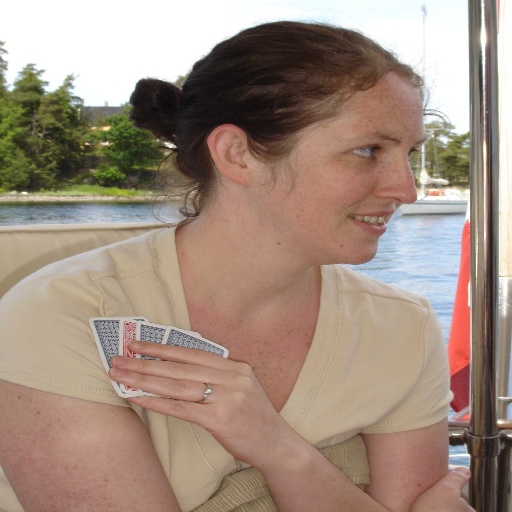hand: (116, 311, 324, 481), (406, 464, 474, 511)
